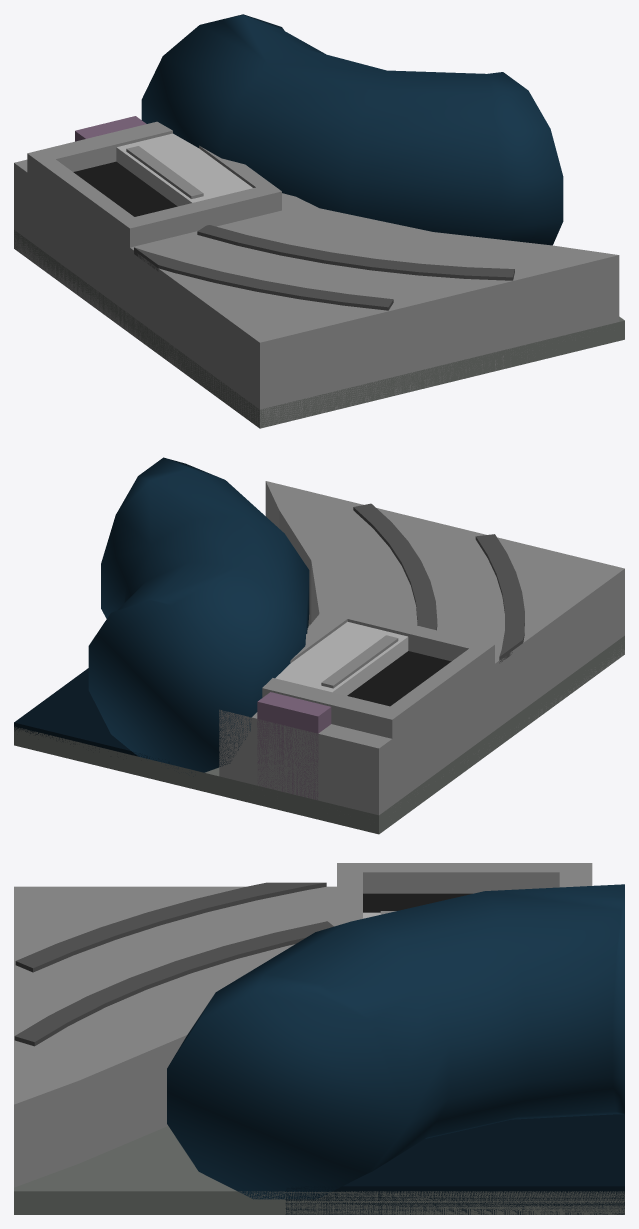
The model's file is newshb-117-f3.glb.
3 renders of one model, top to bottom at view 1: azimuth 30°, elevation 25°; view 2: azimuth 150°, elevation 25°; view 3: azimuth 270°, elevation 25°, orthographic. The views are drawn at different scales.
Visible parts, largest first — view 1: newshb-117, newshb-117-f3-hatch; view 2: newshb-117, newshb-117-f3-hatch; view 3: newshb-117.
Part boxes in pixels (x1=…): newshb-117: x1=14, y1=14, x2=624, y2=428; newshb-117-f3-hatch: x1=116, y1=133, x2=252, y2=206; newshb-117: x1=14, y1=457, x2=624, y2=834; newshb-117-f3-hatch: x1=275, y1=621, x2=408, y2=695; newshb-117: x1=14, y1=863, x2=624, y2=1214.
Size of the model in its own units: 2 by 0.9347 by 2.33.
